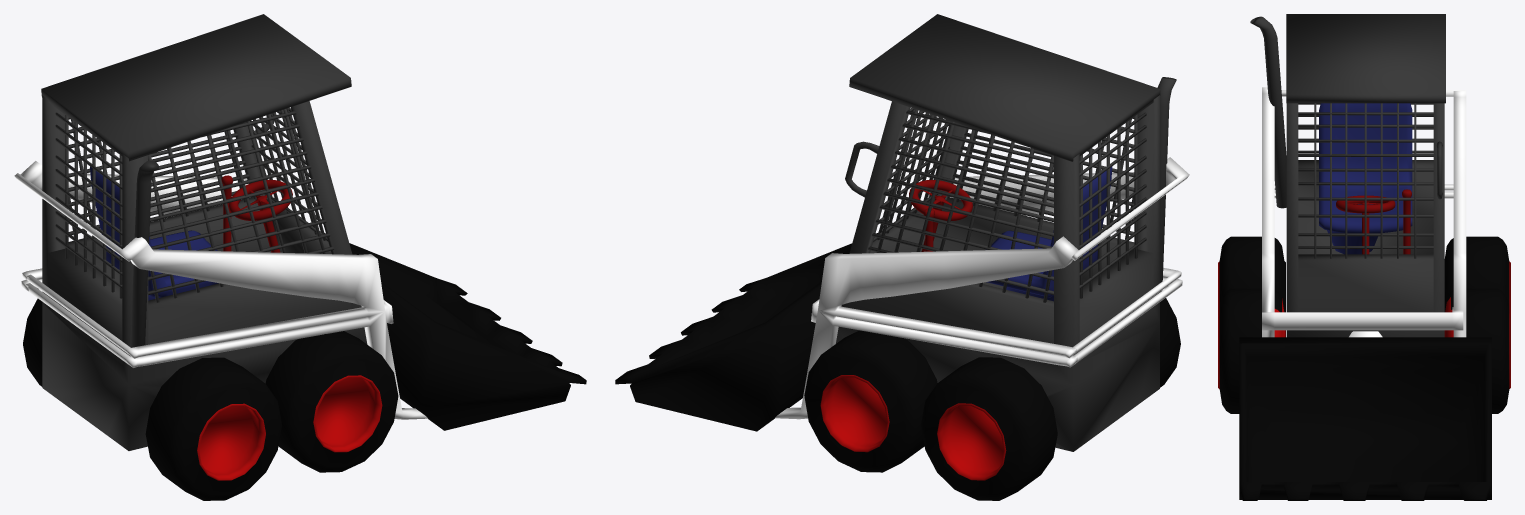
Rendered from bobcat.obj.
3 views of the same model, side by side, from view 1: azimuth 30°, elevation 25°; view 2: azimuth 150°, elevation 25°; view 3: azimuth 270°, elevation 25° (orthographic). The views are drawn at different scales.
Parts seen in each view (by area): view 1: cube1, ruedas, palancas, pala, silla, volante; view 2: cube1, ruedas, palancas, pala, silla, volante; view 3: cube1, pala, ruedas, palancas, silla, volante.
Boxes of the visible parts, x1=… form: cube1: x1=41, y1=14, x2=367, y2=450; ruedas: x1=23, y1=298, x2=398, y2=500; palancas: x1=14, y1=161, x2=427, y2=419; pala: x1=324, y1=233, x2=586, y2=430; silla: x1=90, y1=166, x2=218, y2=300; volante: x1=221, y1=175, x2=292, y2=252; cube1: x1=836, y1=14, x2=1176, y2=451; ruedas: x1=804, y1=298, x2=1180, y2=500; palancas: x1=775, y1=157, x2=1189, y2=419; pala: x1=615, y1=233, x2=878, y2=431; silla: x1=986, y1=166, x2=1112, y2=301; volante: x1=909, y1=179, x2=972, y2=251; cube1: x1=1250, y1=14, x2=1445, y2=337; pala: x1=1239, y1=337, x2=1491, y2=500; ruedas: x1=1218, y1=236, x2=1510, y2=413; palancas: x1=1262, y1=87, x2=1466, y2=337; silla: x1=1319, y1=103, x2=1412, y2=254; volante: x1=1336, y1=189, x2=1411, y2=254.
Bounding box in the file's own units: 3.78 × 2.9 × 2.32.
